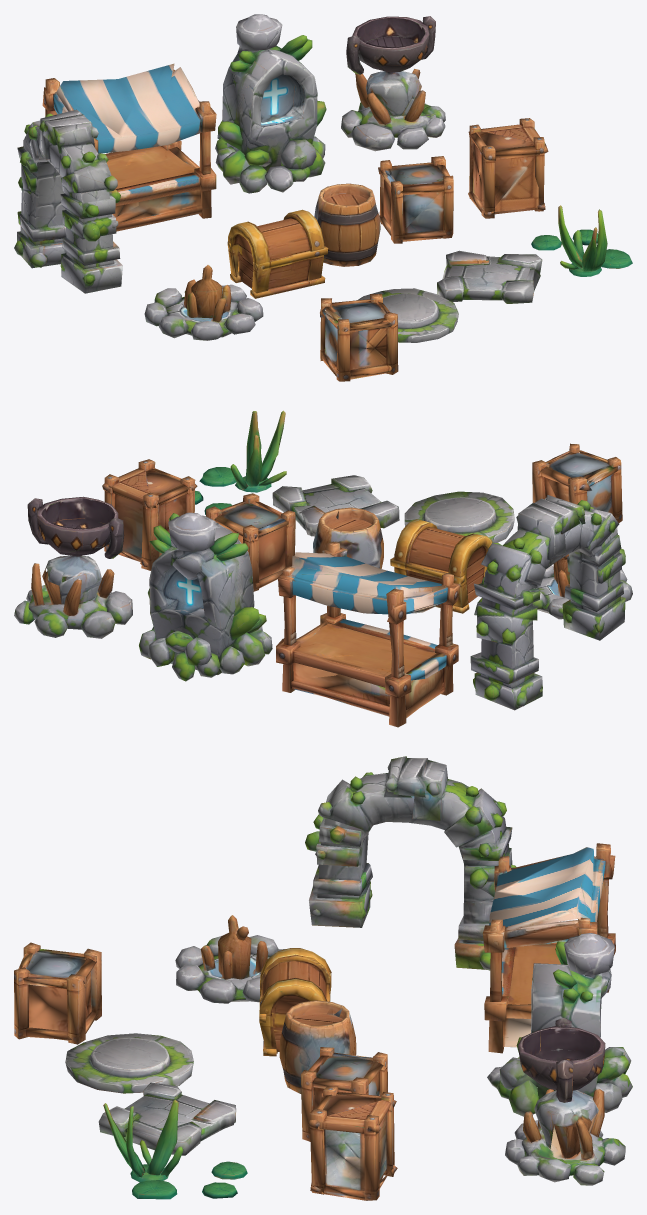
File: Meshy_AI_Mystic_Adventure_Prop_1004234516_texture.glb
The picture shows the model from 3 angles, top to bottom: view 1: azimuth 30°, elevation 25°; view 2: azimuth 150°, elevation 25°; view 3: azimuth 270°, elevation 25°; orthographic projection. The views are drawn at different scales.
Size of the model in its own units: 1 by 0.3351 by 0.9982.
Materials: 1 (1 with a texture image).
